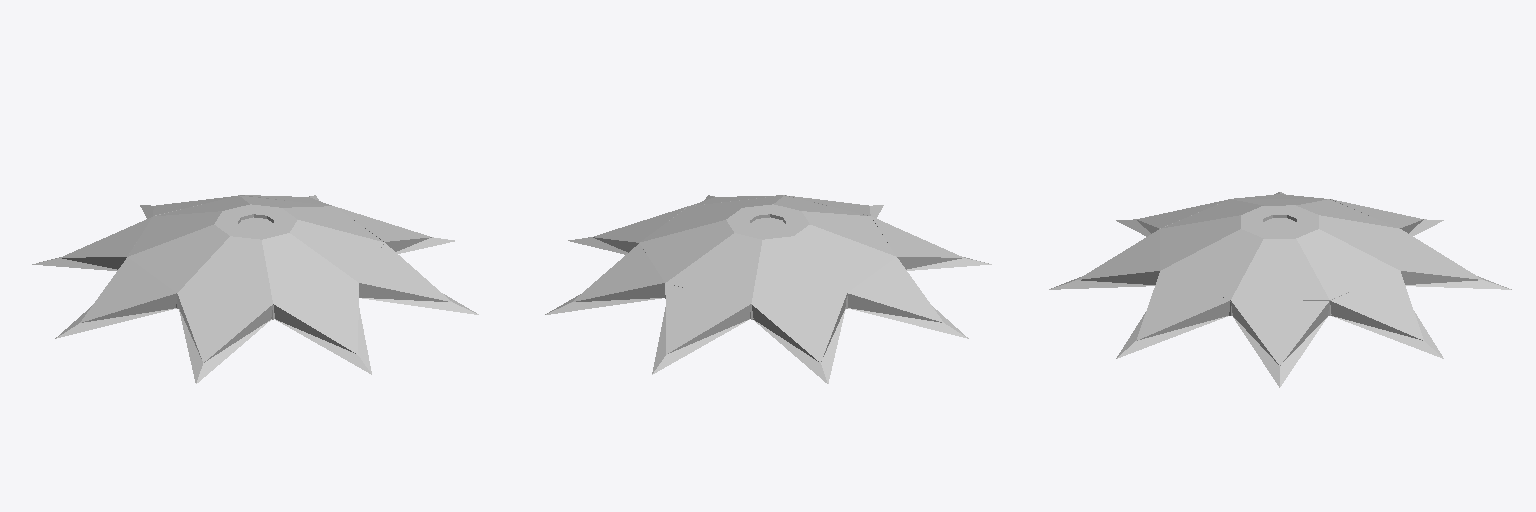
Rendered from spawner4.obj.
The picture shows the model from 3 angles: view 1: azimuth 30°, elevation 25°; view 2: azimuth 150°, elevation 25°; view 3: azimuth 270°, elevation 25°; orthographic projection.
Parts seen in each view (by area): view 1: Cone; view 2: Cone; view 3: Cone.
Boxes of the visible parts, x1=… form: Cone: x1=32, y1=195, x2=478, y2=383; Cone: x1=545, y1=195, x2=991, y2=383; Cone: x1=1049, y1=192, x2=1511, y2=387.
Size of the model in its own units: 3.58 by 0.5779 by 3.58.